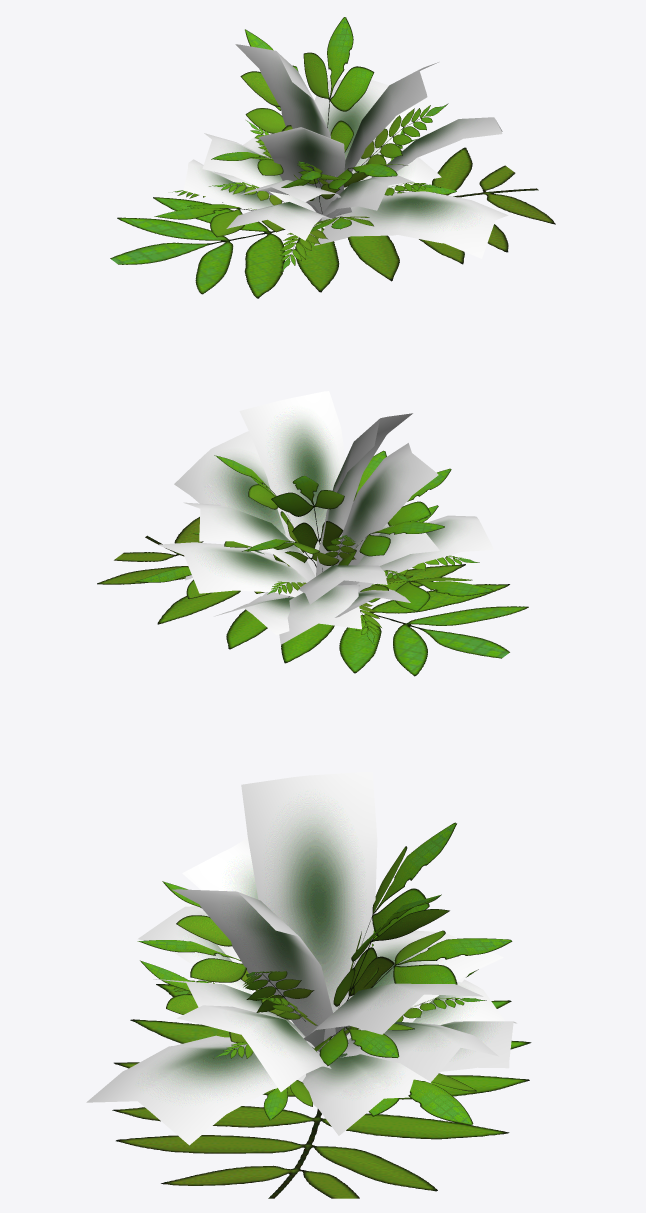
The model's file is farm_item_04.fbx.
The picture shows the model from 3 angles, top to bottom: view 1: azimuth 30°, elevation 25°; view 2: azimuth 150°, elevation 25°; view 3: azimuth 270°, elevation 25°; orthographic projection. The views are drawn at different scales.
Parts seen in each view (by area): view 1: Leaf_01; view 2: Leaf_01; view 3: Leaf_01.
Part boxes in pixels (box(x1,y1,x2,y2)): Leaf_01: box(110, 17, 555, 298); Leaf_01: box(97, 391, 528, 676); Leaf_01: box(86, 772, 531, 1198).
Size of the model in its own units: 2.52 by 1.26 by 2.52.
